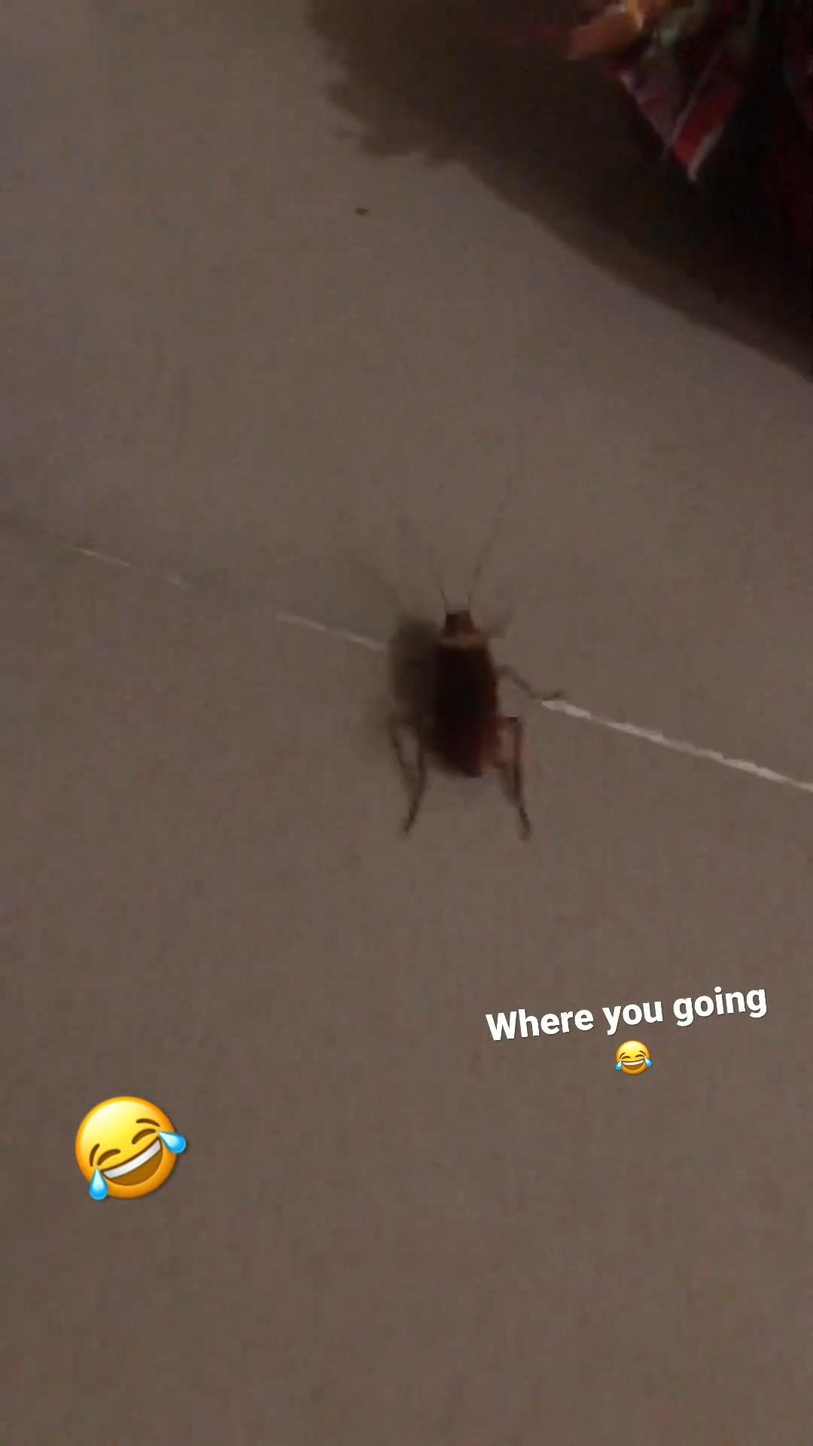cockroach: (377, 573, 538, 829)
